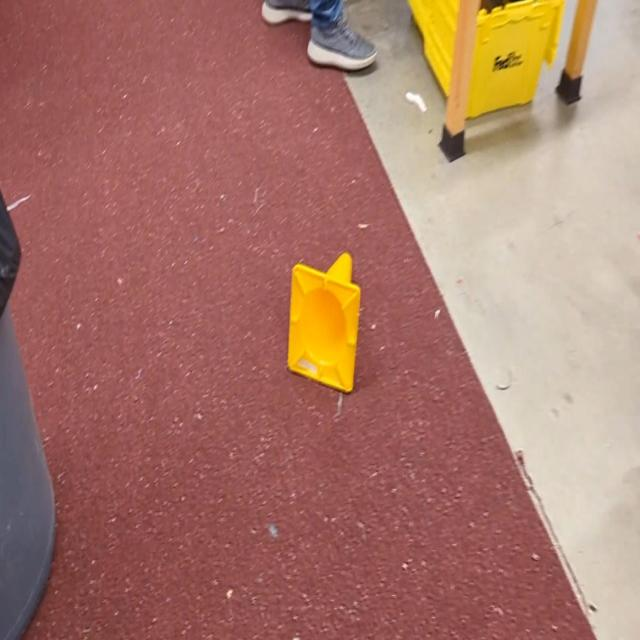frc_cone: (287, 251, 360, 393)
